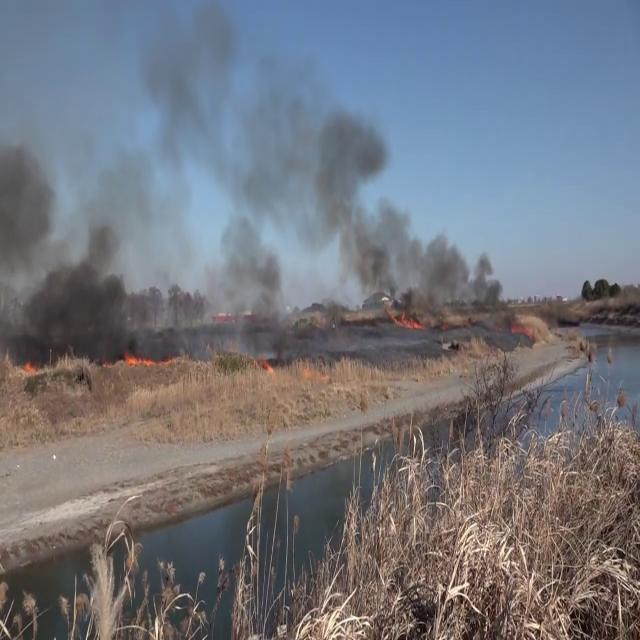Smoke: (115, 8, 498, 337), (0, 107, 174, 371)
